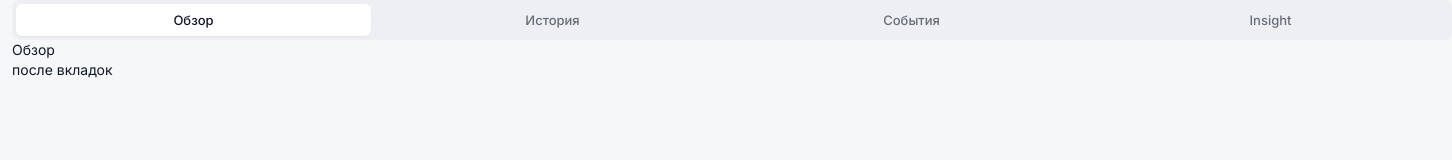
Tabs › ArrowRight с вкладки «Insight» открывает «Обзор» и переносит на неё фокус
Click the button "Insight": (1270, 20) [1093,4,1448,36]
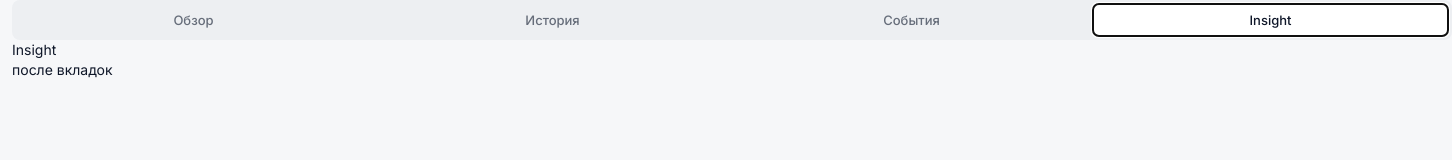
Press Arrowright
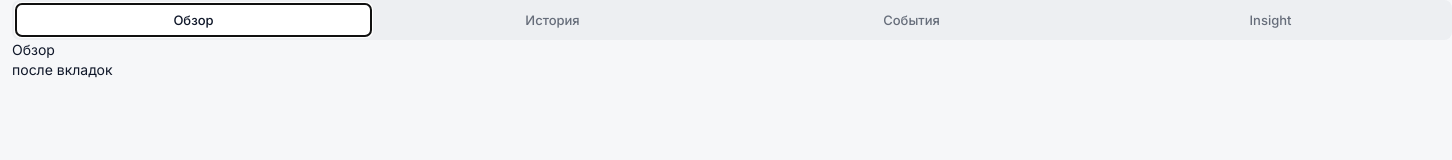
Expected: the text with test id "current" reads "Обзор", [12,41,55,58]
